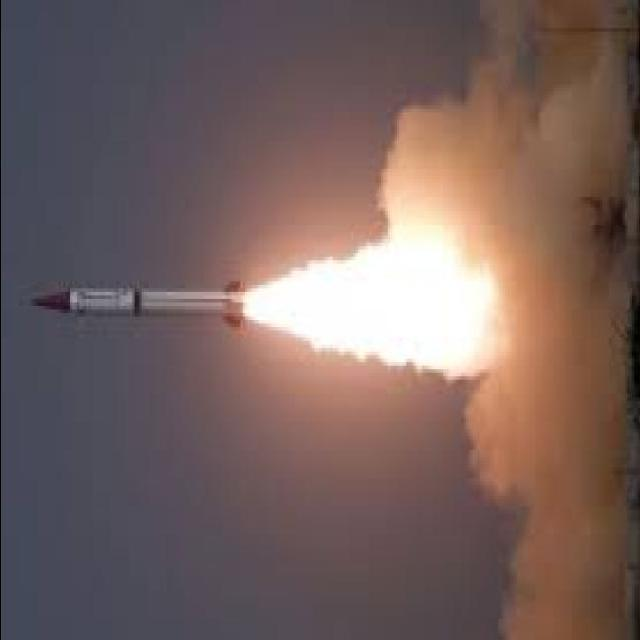missile: (29, 275, 252, 336)
